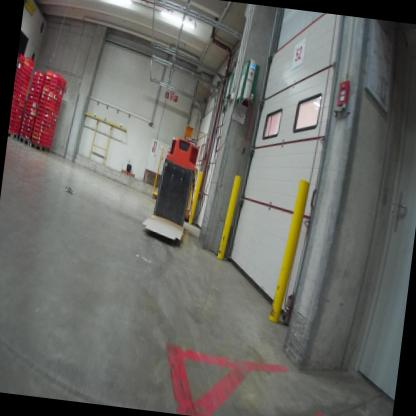pallet: (28, 140, 52, 154), (17, 134, 32, 147), (12, 131, 20, 140), (7, 132, 13, 138)
pallet_truck: (133, 127, 201, 241)
